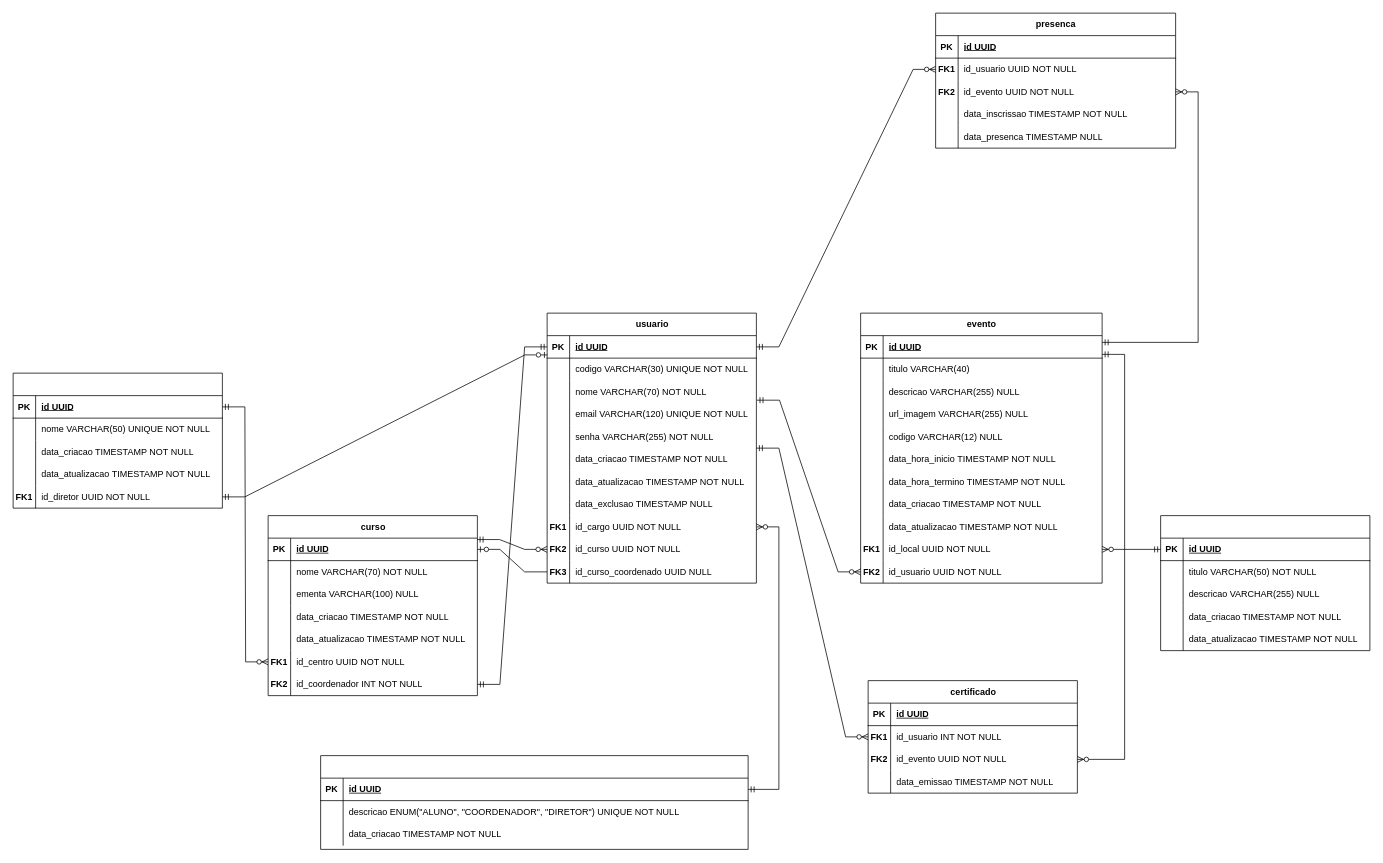
The diagram is 1383 pixels wide and 863 high, and some of its shapes have lost their labels. Here are the shapes that lost their labels. From the top down, the box of each, then its label:
(12, 372, 222, 508): centro
(1160, 515, 1370, 651): local
(320, 755, 748, 849): cargo
